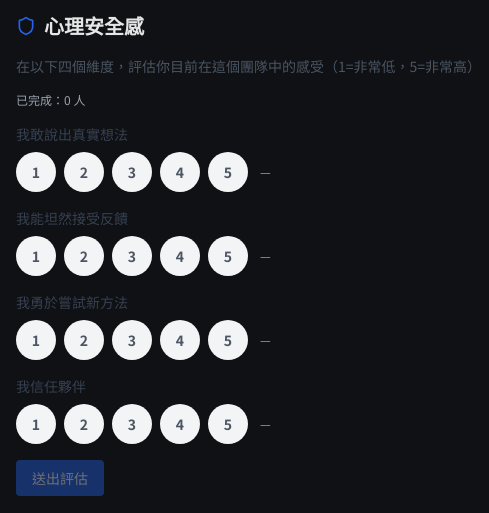
Test: SafetyCheck › 全選後可提交
Click the button "3" below "我敢說出真實想法" at (132, 172), box left=112, top=152, right=152, bottom=192
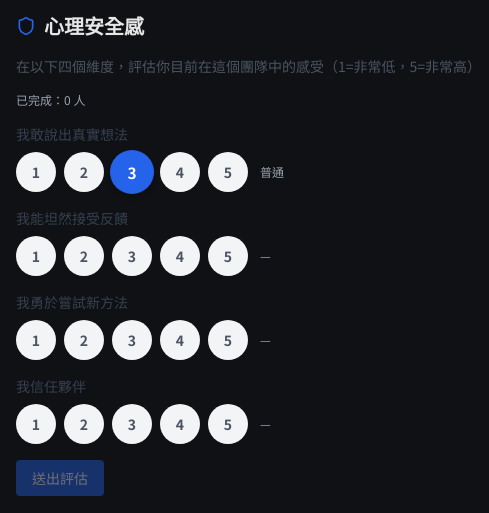
Click the button with test id "sc-score-feedback-3" at (132, 256), box left=112, top=236, right=152, bottom=276
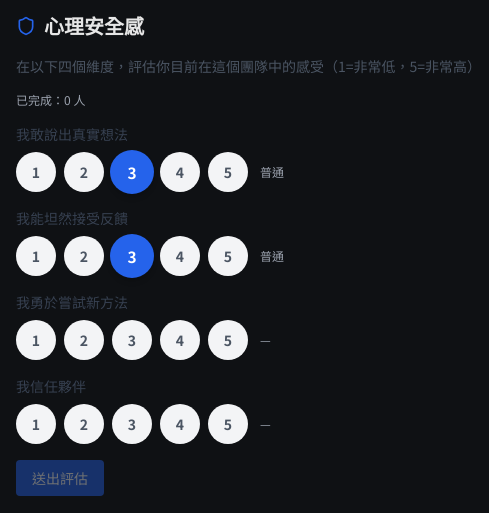
Click the button "3" below "我勇於嘗試新方法" at (132, 340), box left=112, top=320, right=152, bottom=360
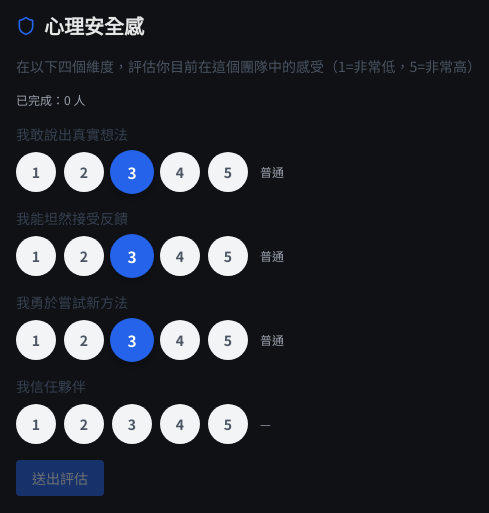
Click the button "3" below "我信任夥伴" at (132, 424), box left=112, top=404, right=152, bottom=444
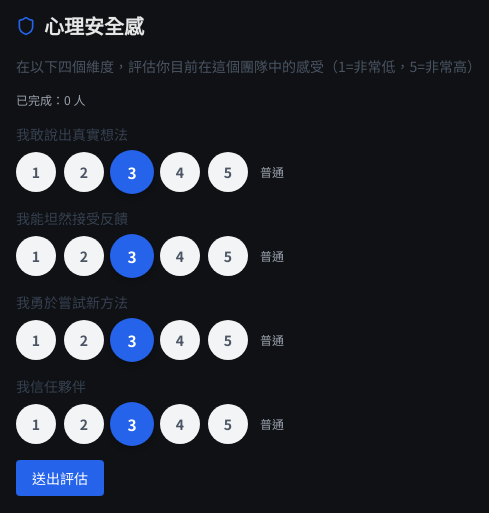
Now the button with test id "sc-submit-btn" is enabled, box left=16, top=460, right=104, bottom=496
